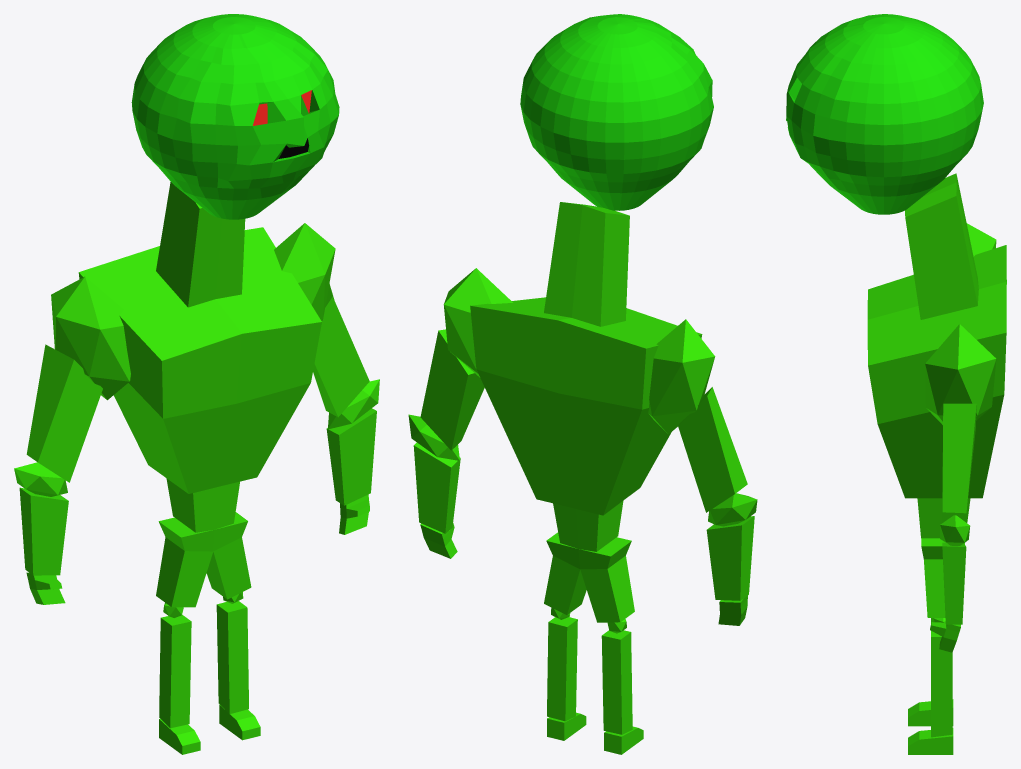
File: goblin.fbx
The picture shows the model from 3 angles, left to right: view 1: azimuth 30°, elevation 25°; view 2: azimuth 150°, elevation 25°; view 3: azimuth 270°, elevation 25°; orthographic projection. The views are drawn at different scales.
Visible parts, largest first — view 1: Cube.012, Sphere; view 2: Cube.012, Sphere; view 3: Cube.012, Sphere.
Part boxes in pixels (x1,y1,x2,y2): Cube.012: (14, 182, 379, 754); Sphere: (131, 14, 339, 219); Cube.012: (408, 202, 757, 754); Sphere: (520, 14, 713, 210); Cube.012: (867, 173, 1006, 754); Sphere: (786, 14, 983, 214).
Size of the model in its own units: 2.26 by 4.32 by 1.21.
